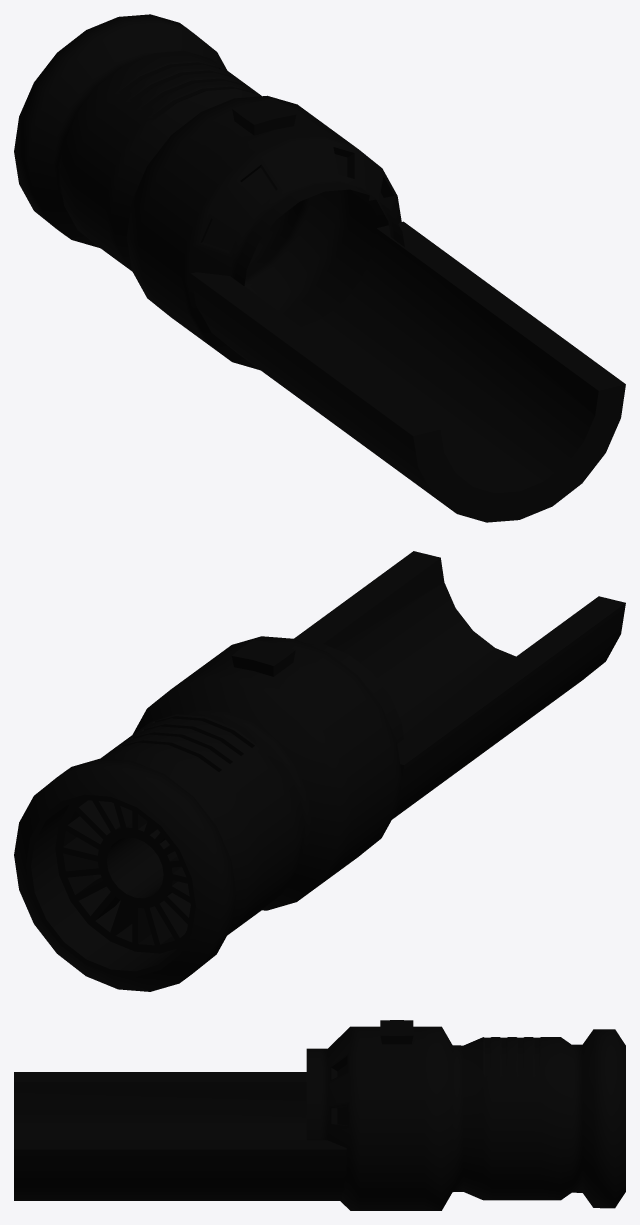
The model's file is emisor_portal.glb.
3 renders of one model, top to bottom at view 1: azimuth 30°, elevation 25°; view 2: azimuth 150°, elevation 25°; view 3: azimuth 270°, elevation 25°, orthographic. The views are drawn at different scales.
Visible parts, largest first — view 1: emisor_portal; view 2: emisor_portal; view 3: emisor_portal.
Part boxes in pixels (<box>): emisor_portal: <box>14,14,625,522</box>; emisor_portal: <box>14,551,625,991</box>; emisor_portal: <box>14,1020,625,1210</box>.
Bounding box in the file's own units: 1.08 × 1.13 × 3.56.
Materials: 2 (2 with a texture image).
